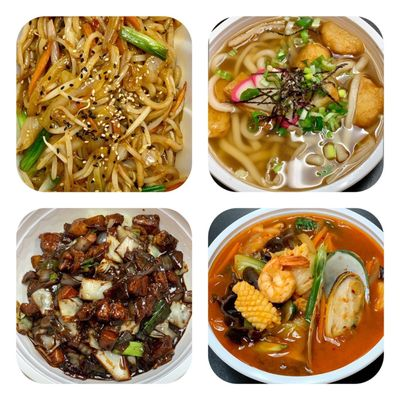curry: (120, 26, 168, 60)
sushi: (13, 13, 193, 198), (206, 15, 389, 193), (207, 207, 386, 382), (15, 208, 193, 382)
